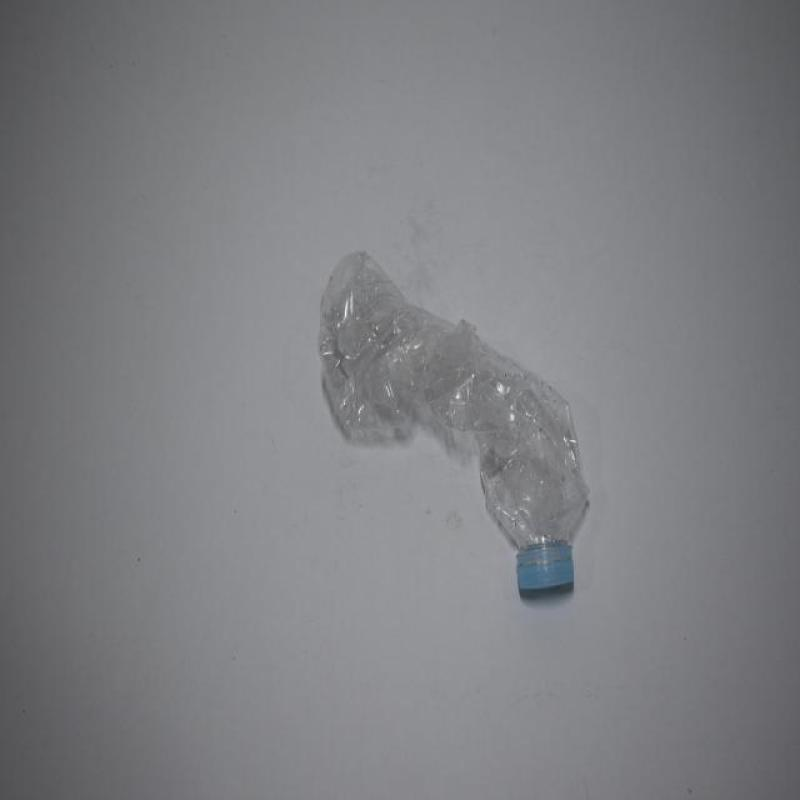botella: (320, 248, 591, 596)
